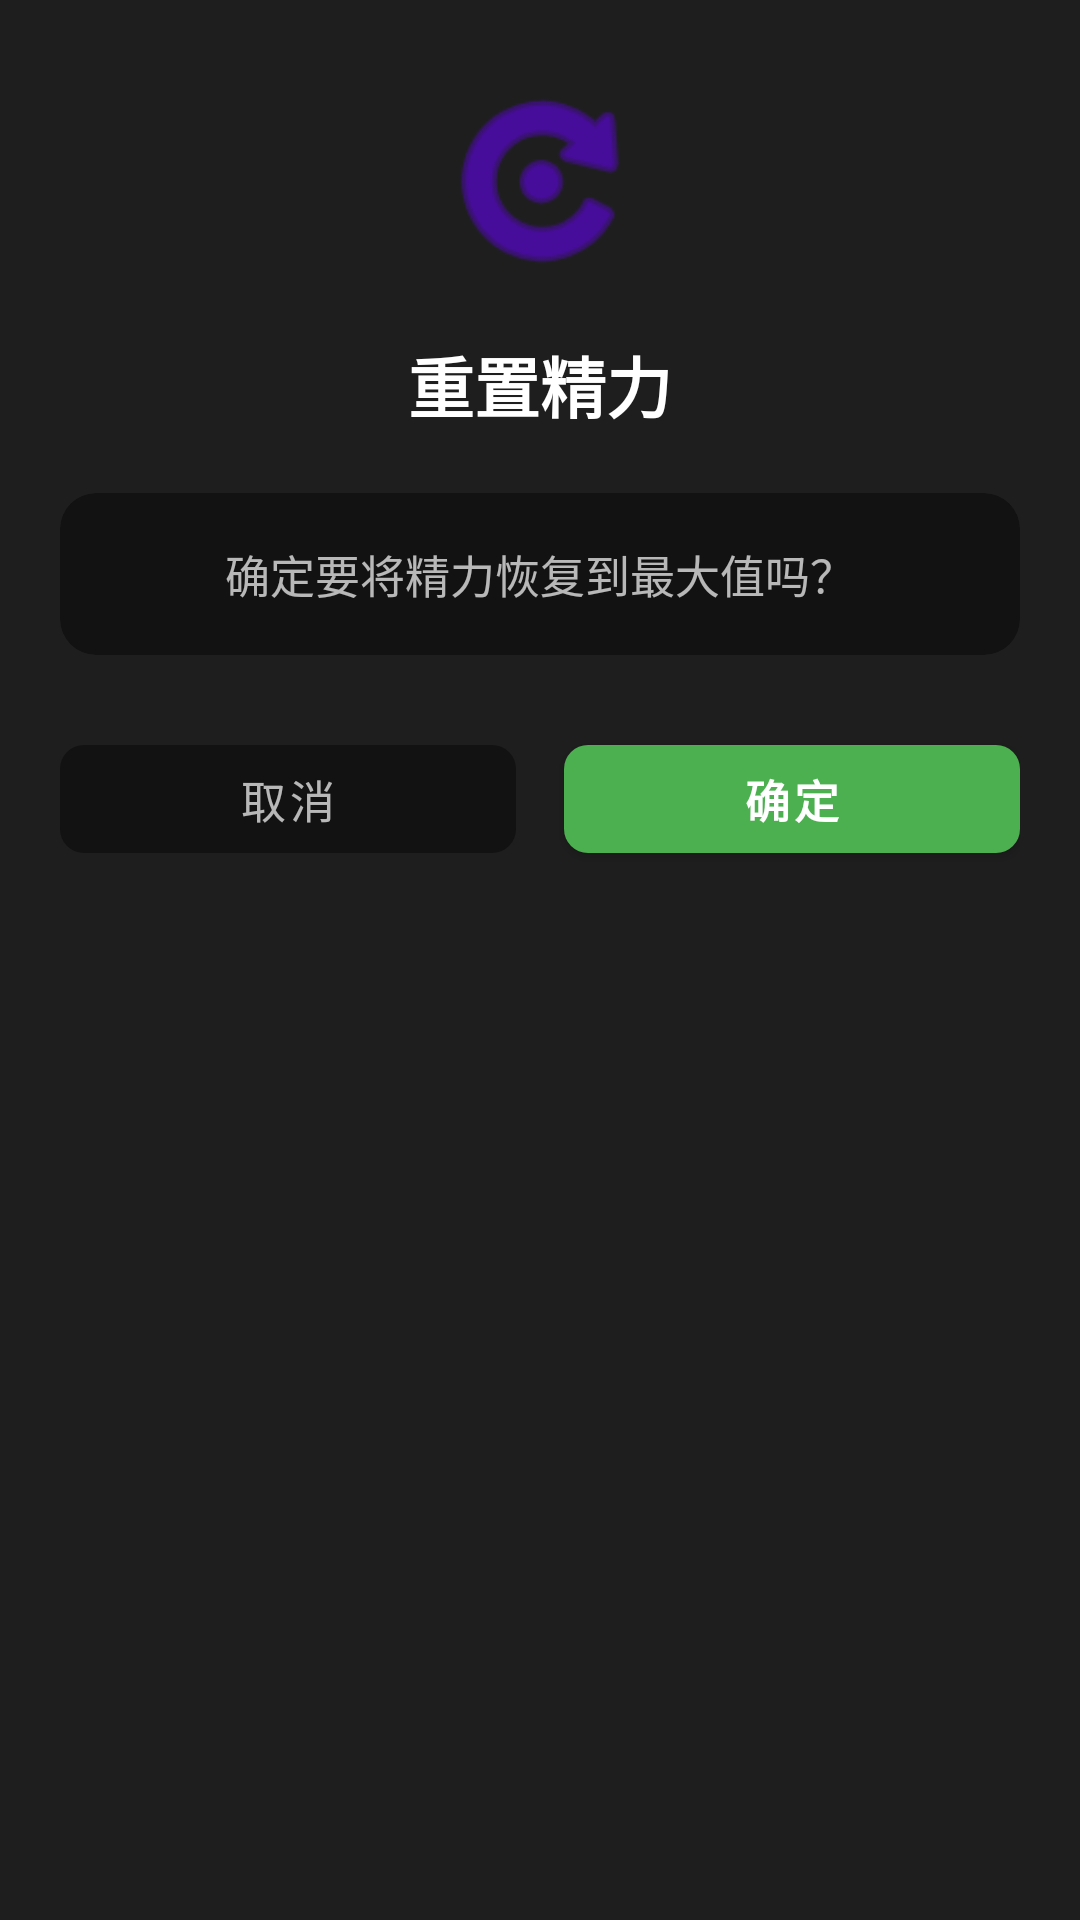

Named icons in this screenshot (1080 × 1920) and their bounding boxes, [left=x1, top=y1, right=x2, bottom=y2]:
rotate: [left=461, top=100, right=619, bottom=262]
